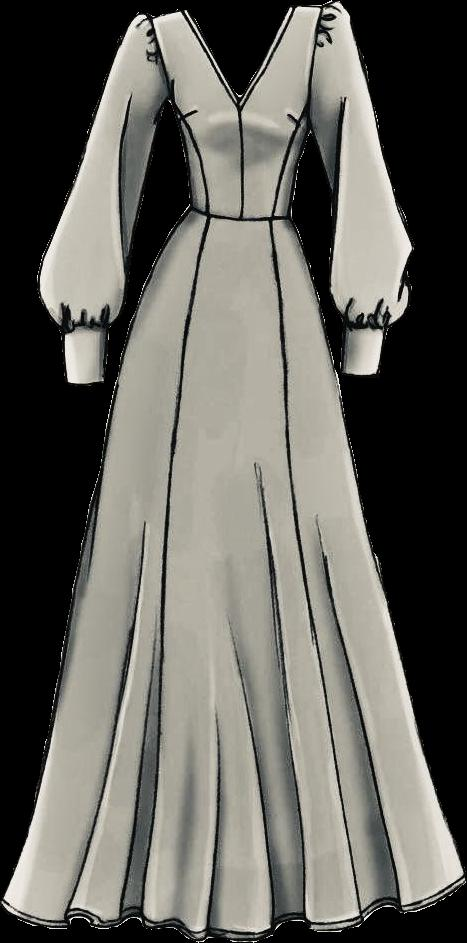Bodice: (149, 5, 323, 220)
Hemline: (0, 875, 466, 942)
Neckline: (182, 3, 299, 107)
Skirt: (2, 204, 465, 942)
Sleeve: (40, 13, 170, 383), (314, 3, 411, 377)
Sleeveline: (298, 1, 331, 140), (142, 13, 185, 114), (58, 315, 111, 338), (342, 313, 391, 334)
Waistline: (184, 199, 295, 228)
